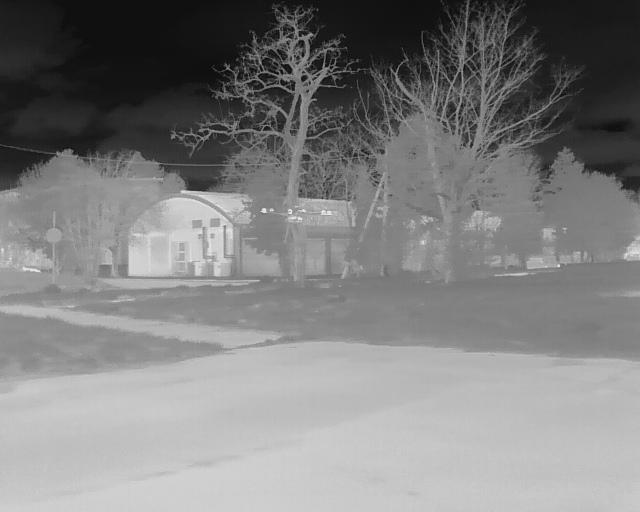drone: (248, 199, 347, 251)
